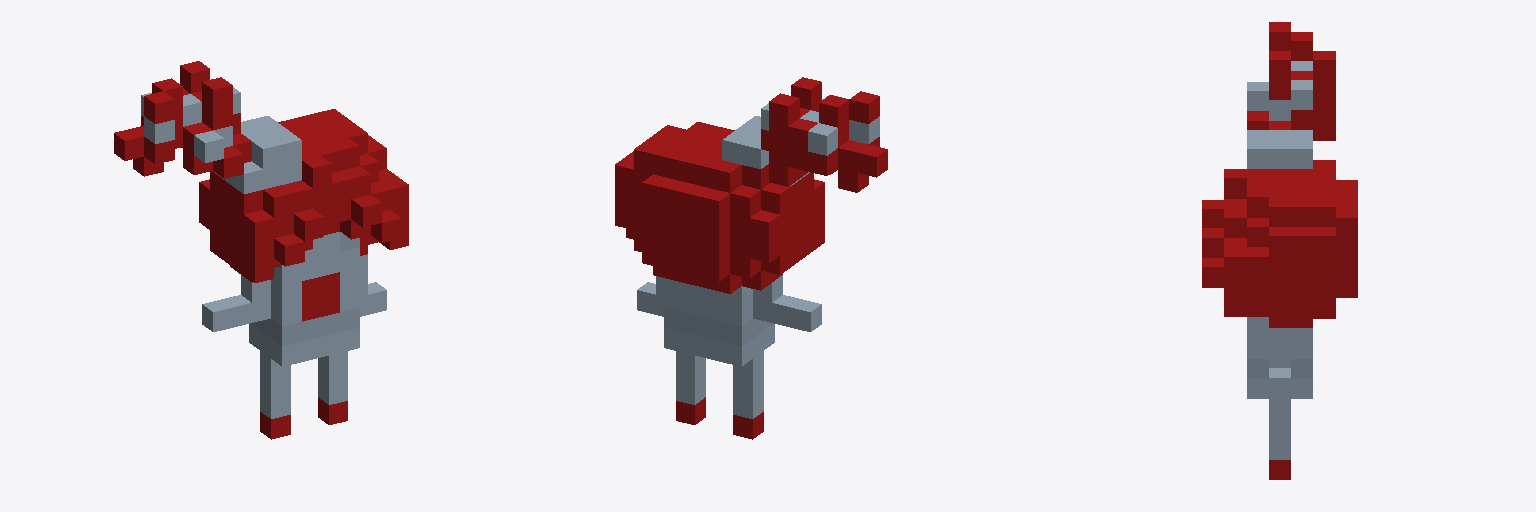
3 views of the same model, side by side, from view 1: azimuth 30°, elevation 25°; view 2: azimuth 150°, elevation 25°; view 3: azimuth 270°, elevation 25° (orthographic).
Visible parts, largest first — view 1: girl3-1; view 2: girl3-1; view 3: girl3-1.
Part boxes in pixels (x1,y1,x2,y2): girl3-1: (114,61,408,439); girl3-1: (615,77,887,439); girl3-1: (1202,22,1357,479).
Size of the model in its own units: 13 by 18 by 7.
Materials: 1 (1 with a texture image).